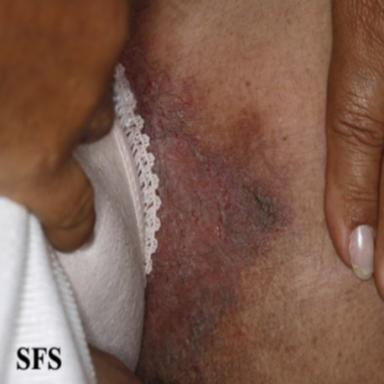Hailey-Hailey-Disease: (131, 62, 289, 382)
